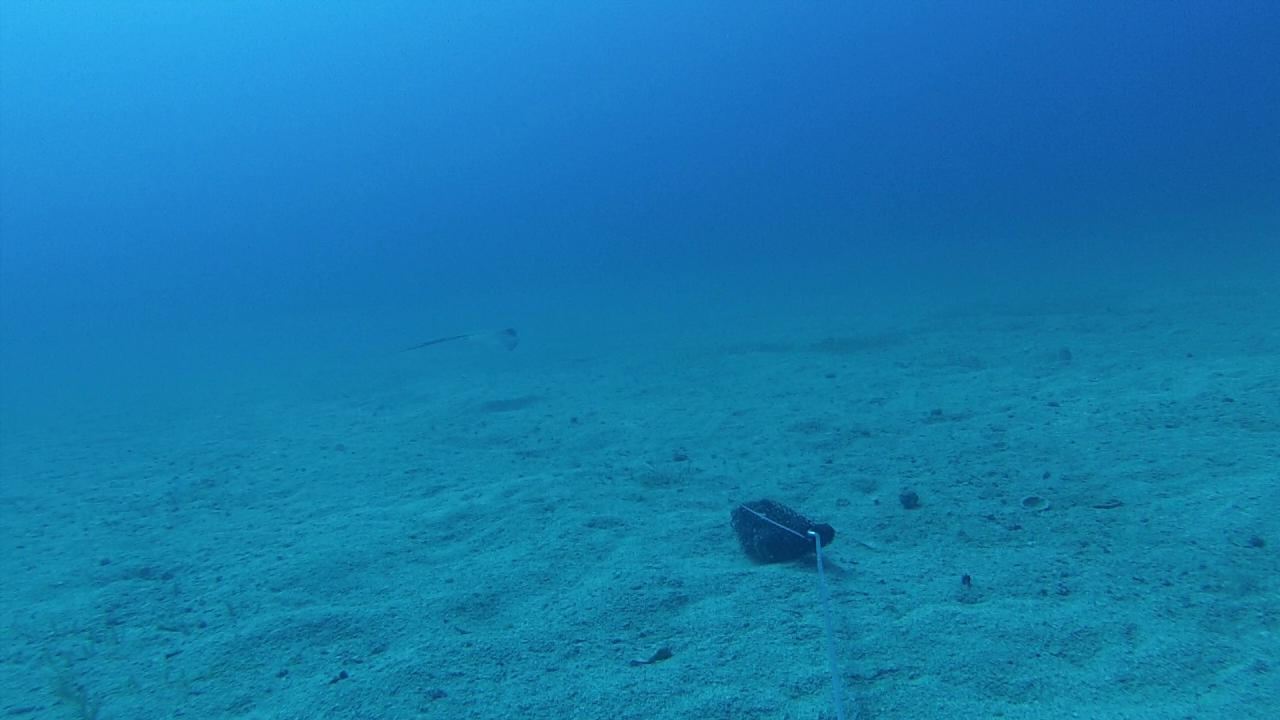dasyatis: (392, 320, 521, 356)
